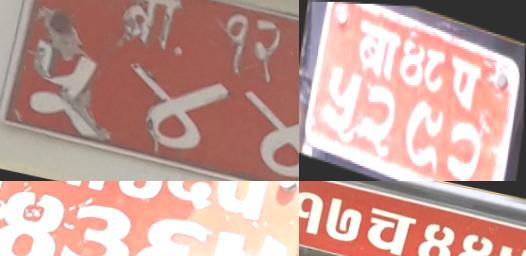1: (207, 2, 259, 78), (299, 183, 329, 239)
2: (242, 11, 291, 86), (441, 114, 488, 181), (359, 80, 398, 156)
4: (114, 54, 236, 159), (225, 79, 299, 181), (127, 209, 213, 256), (414, 214, 460, 256), (396, 34, 428, 90), (450, 224, 499, 256), (162, 181, 219, 208)
5: (13, 34, 128, 146), (0, 184, 69, 256), (321, 62, 362, 142), (115, 181, 170, 201)
7: (322, 190, 368, 248)
8: (210, 181, 277, 220), (420, 42, 447, 92)
9: (400, 90, 445, 172), (491, 237, 526, 256)
ba: (56, 197, 136, 256), (111, 0, 188, 58), (353, 15, 400, 81)
cha: (359, 200, 421, 256)
lu: (200, 222, 288, 256)
pa: (445, 51, 481, 111)
